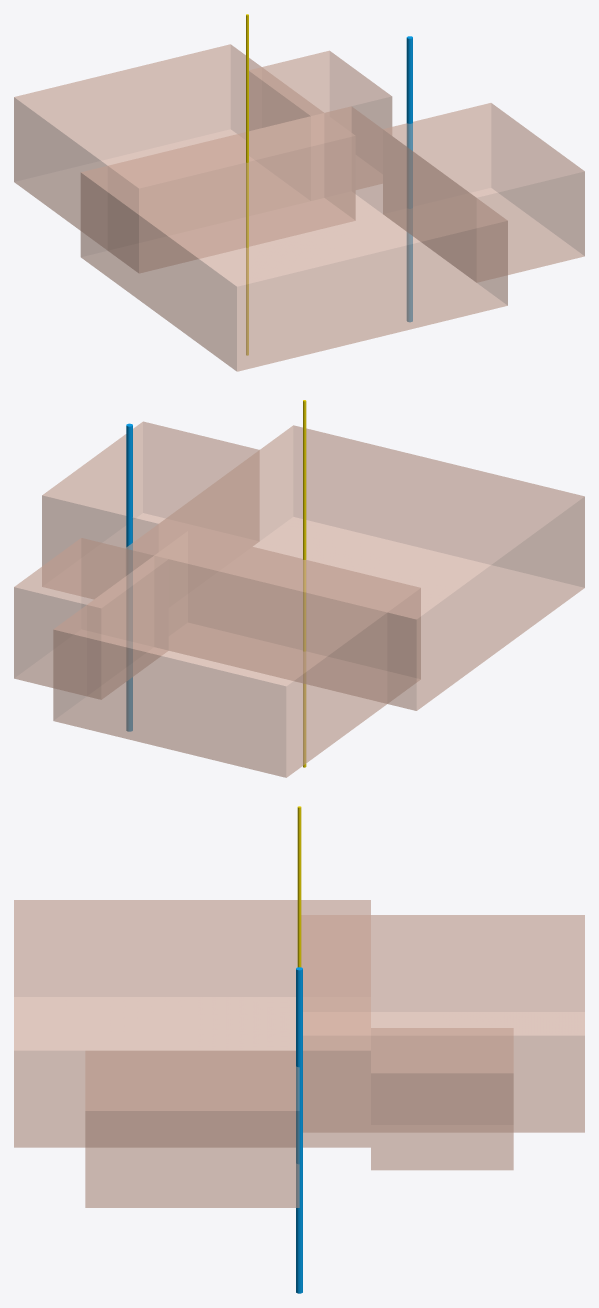
File: omnibuild.glb
The picture shows the model from 3 angles, top to bottom: view 1: azimuth 30°, elevation 25°; view 2: azimuth 150°, elevation 25°; view 3: azimuth 270°, elevation 25°; orthographic projection. The views are drawn at different scales.
Visible parts, largest first — view 1: Wall_Hall, Wall_Bedroom, Wall_Kitchen, Wall_Bathroom, Plumbing_System, Electrical_System; view 2: Wall_Hall, Wall_Bedroom, Wall_Kitchen, Wall_Bathroom, Plumbing_System, Electrical_System; view 3: Wall_Hall, Wall_Bedroom, Wall_Kitchen, Wall_Bathroom, Plumbing_System, Electrical_System.
Boxes of the visible parts, x1,y1,x2,y2 form: Wall_Hall: (80, 106, 507, 371); Wall_Bedroom: (14, 44, 355, 273); Wall_Kitchen: (383, 103, 584, 282); Wall_Bathroom: (249, 50, 392, 189); Plumbing_System: (406, 36, 412, 321); Electrical_System: (246, 14, 248, 355); Wall_Hall: (125, 425, 584, 710); Wall_Bedroom: (53, 531, 420, 777); Wall_Kitchen: (42, 421, 259, 598); Wall_Bathroom: (14, 538, 168, 699); Plumbing_System: (126, 423, 132, 731); Electrical_System: (303, 400, 306, 767); Wall_Hall: (14, 900, 370, 1147); Wall_Bedroom: (301, 915, 584, 1132); Wall_Kitchen: (85, 1050, 299, 1207); Wall_Bathroom: (371, 1028, 513, 1170); Plumbing_System: (296, 967, 302, 1293); Electrical_System: (297, 806, 301, 967).
Size of the model in its own units: 14 by 12.2 by 16.
